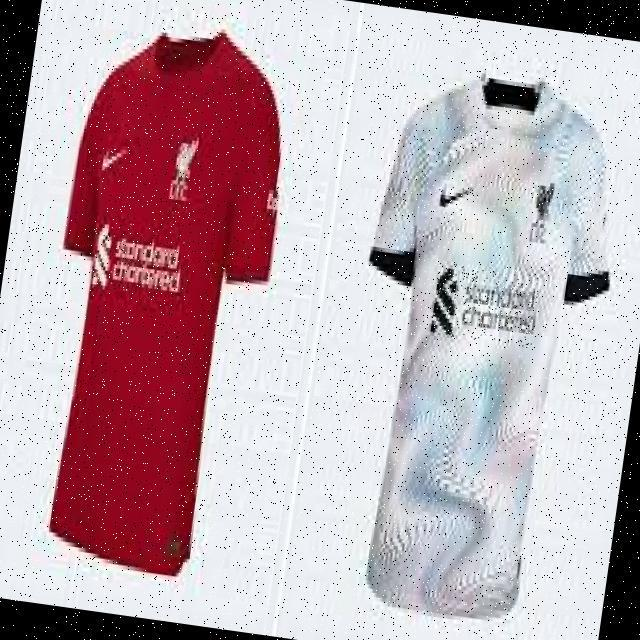Nike: (437, 181, 471, 213), (102, 144, 125, 171)
Standard Chartered: (429, 262, 541, 349), (88, 218, 189, 299)
